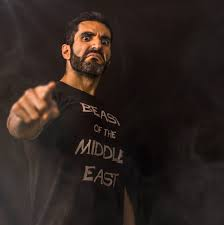middle_eastern_male: (77, 19, 120, 76)
